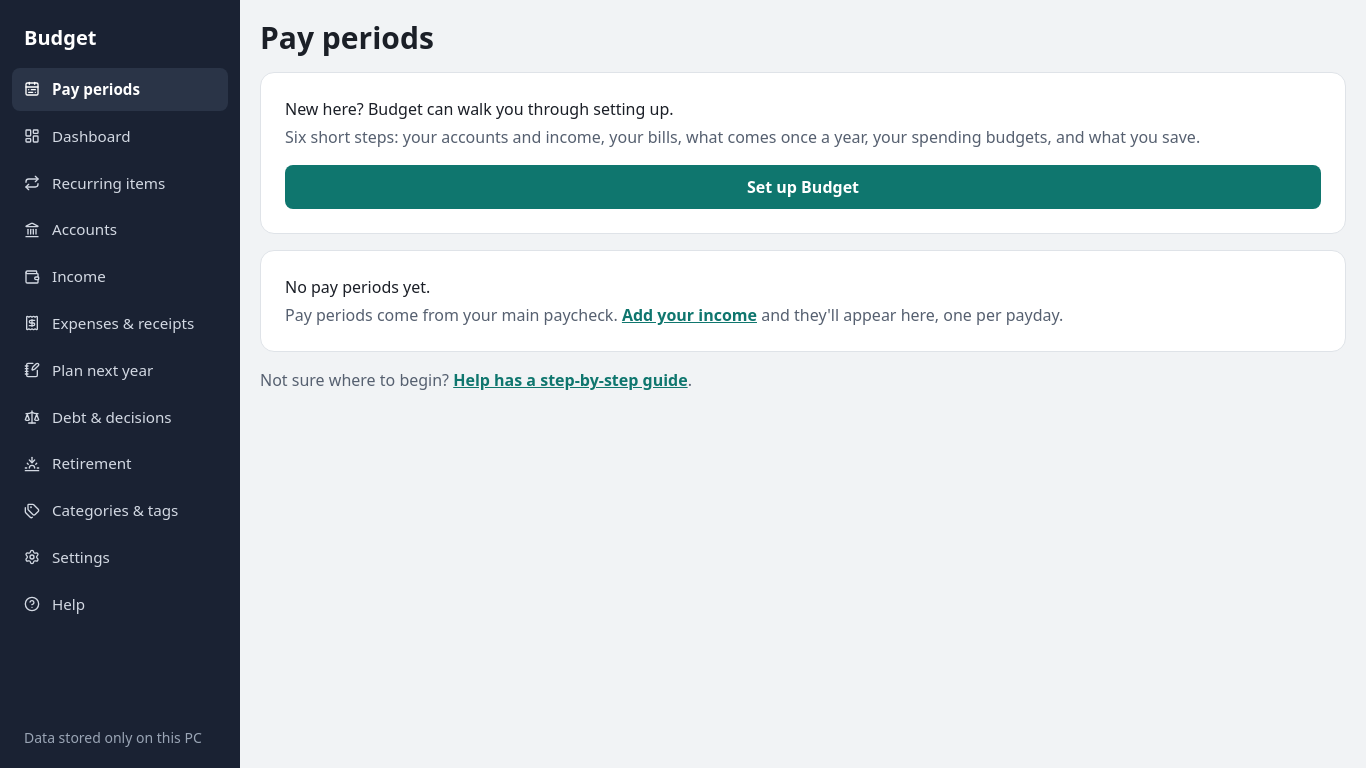
it: Debt & decisions › is in the sidebar and opens on $300 a month over five years
Click the link "Debt & decisions" at (98, 417), box [24, 407, 172, 427]
(page scrolled)
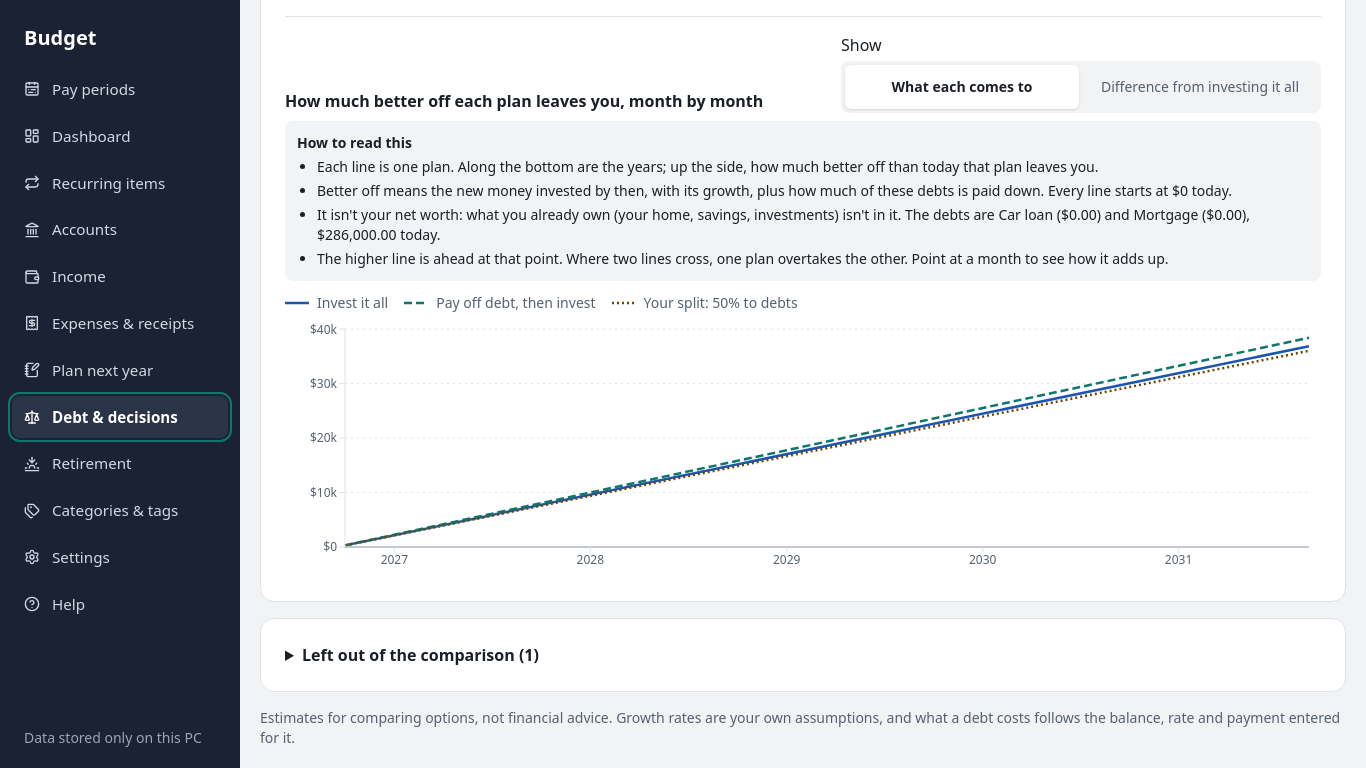
Expected: the text "Estimates for comparing options, not financial advice" is shown, [260, 708, 1340, 747]
